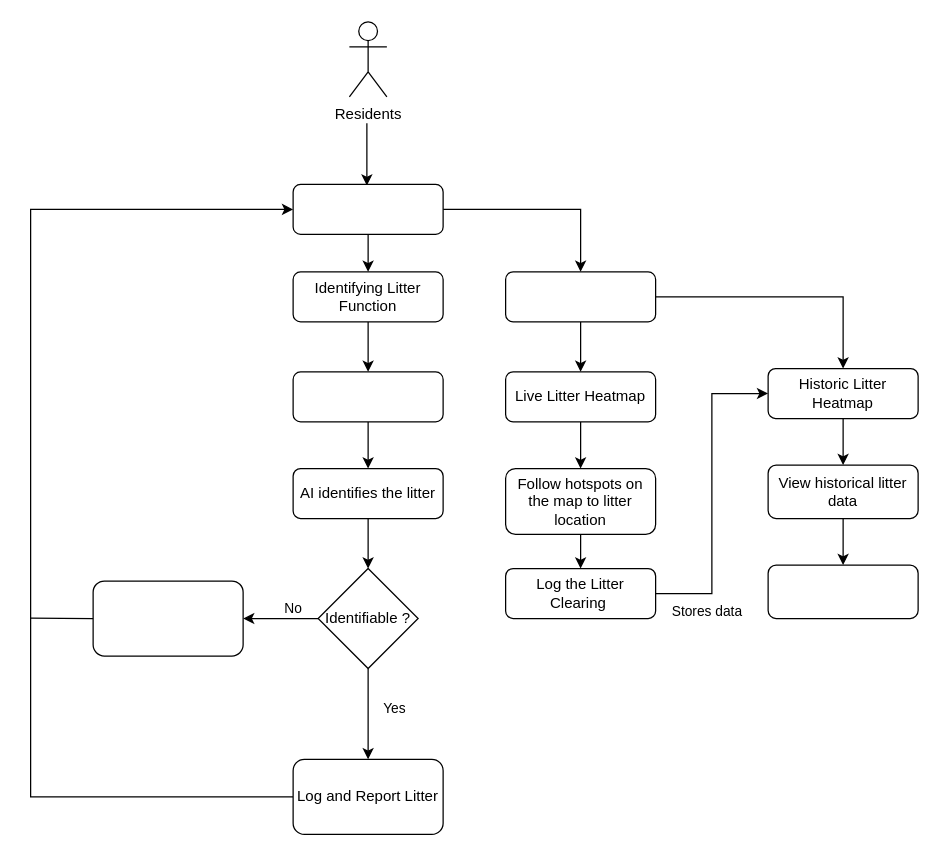
Some shapes in this 940 by 856 pixel diagram are drawn without their labels. The shapes that lost their labels are listed below. From the top down, each one's centre as x and y in pixels, then its label:
(367,208): Main Menu
(580,296): Litter Heat Map Function
(367,396): Take Photos of Litter
(842,591): Download the data stored for sharing
(167,618): Manually Log and Report Litter
